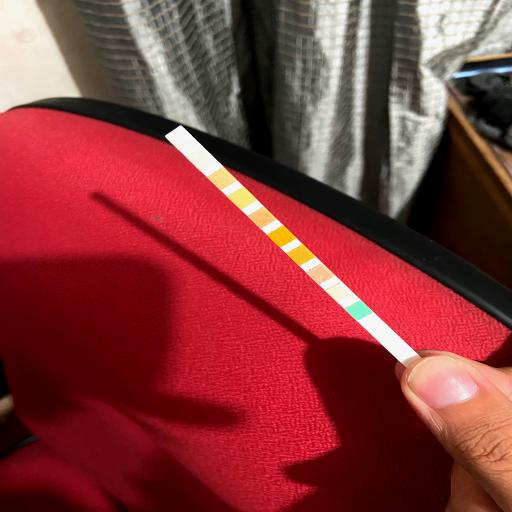Bilirubin: (332, 288, 348, 298)
Blood: (274, 232, 290, 242)
Glucose: (352, 306, 366, 316)
Ketone: (312, 269, 328, 279)
Leukocytes: (172, 132, 188, 144)
Nitrite: (193, 154, 209, 164)
Protein: (234, 192, 250, 204)
SpGravity: (293, 250, 309, 261)
Urobilinogen: (214, 174, 230, 184)
pH: (254, 212, 270, 222)
strip: (165, 125, 420, 366)
